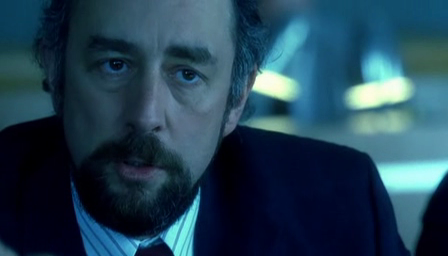cu: (1, 1, 448, 256)
face: (64, 1, 234, 238)
person: (1, 1, 412, 256)
